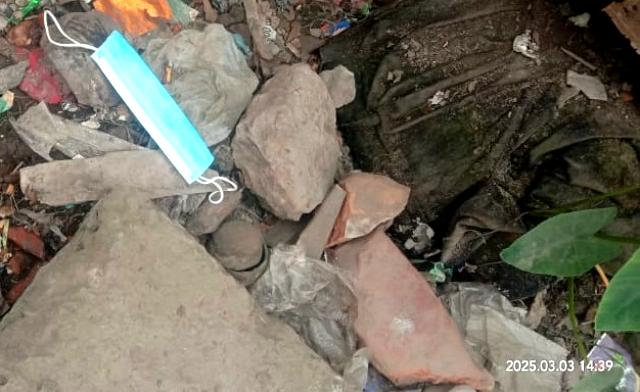mask: (79, 22, 237, 194)
